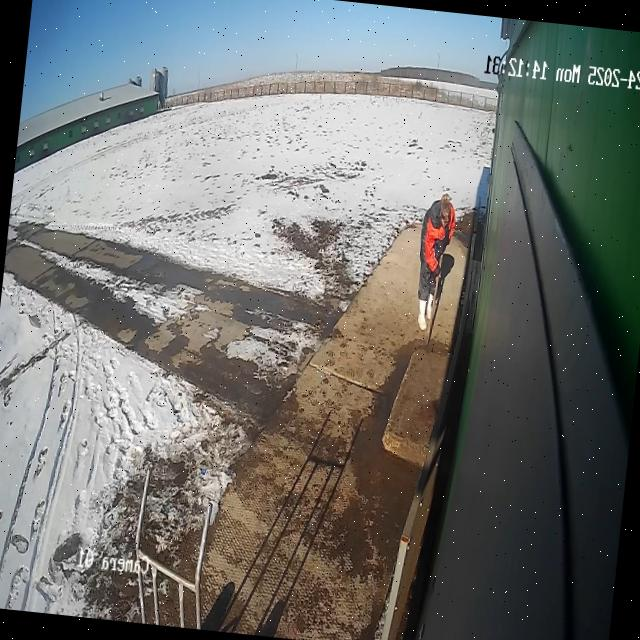Red uniform: (418, 192, 455, 330)
